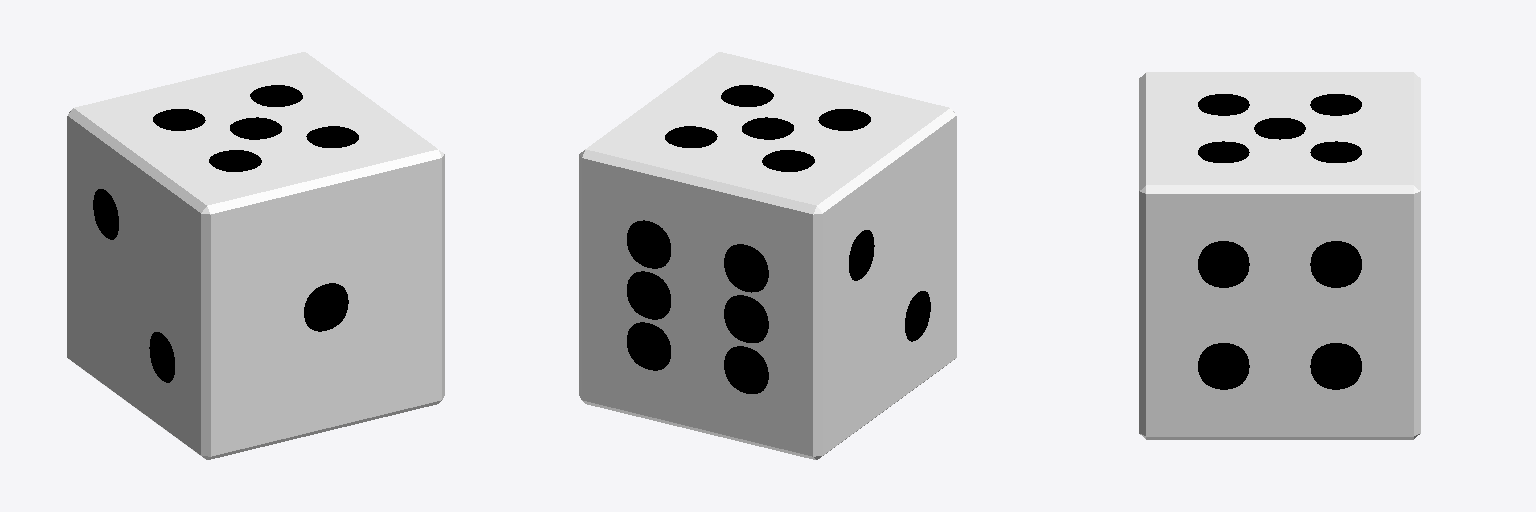
The model's file is dice.obj.
3 views of the same model, side by side, from view 1: azimuth 30°, elevation 25°; view 2: azimuth 150°, elevation 25°; view 3: azimuth 270°, elevation 25° (orthographic).
Parts seen in each view (by area): view 1: Cube1; view 2: Cube1; view 3: Cube1.
Boxes of the visible parts, box(x1,y1,x2,y2) form: Cube1: box(67, 52, 444, 459); Cube1: box(579, 52, 956, 459); Cube1: box(1139, 72, 1420, 439).
Bounding box in the file's own units: 2 × 2 × 2.